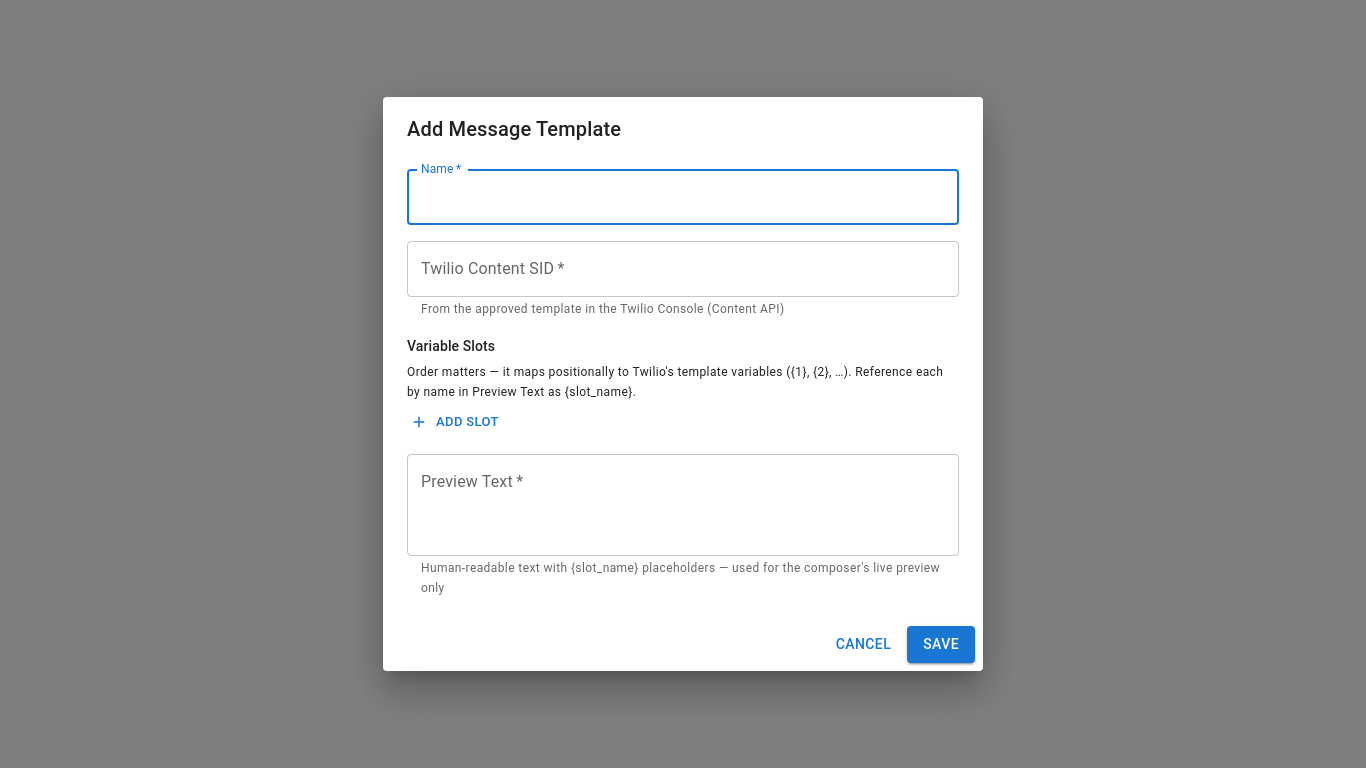
Test: TemplateFormDialog › adds and removes variable slot rows
The width and height of the screenshot is (1366, 768).
Click the button "Add Slot".
click(455, 422)  # box x1=407 y1=407 x2=504 y2=438
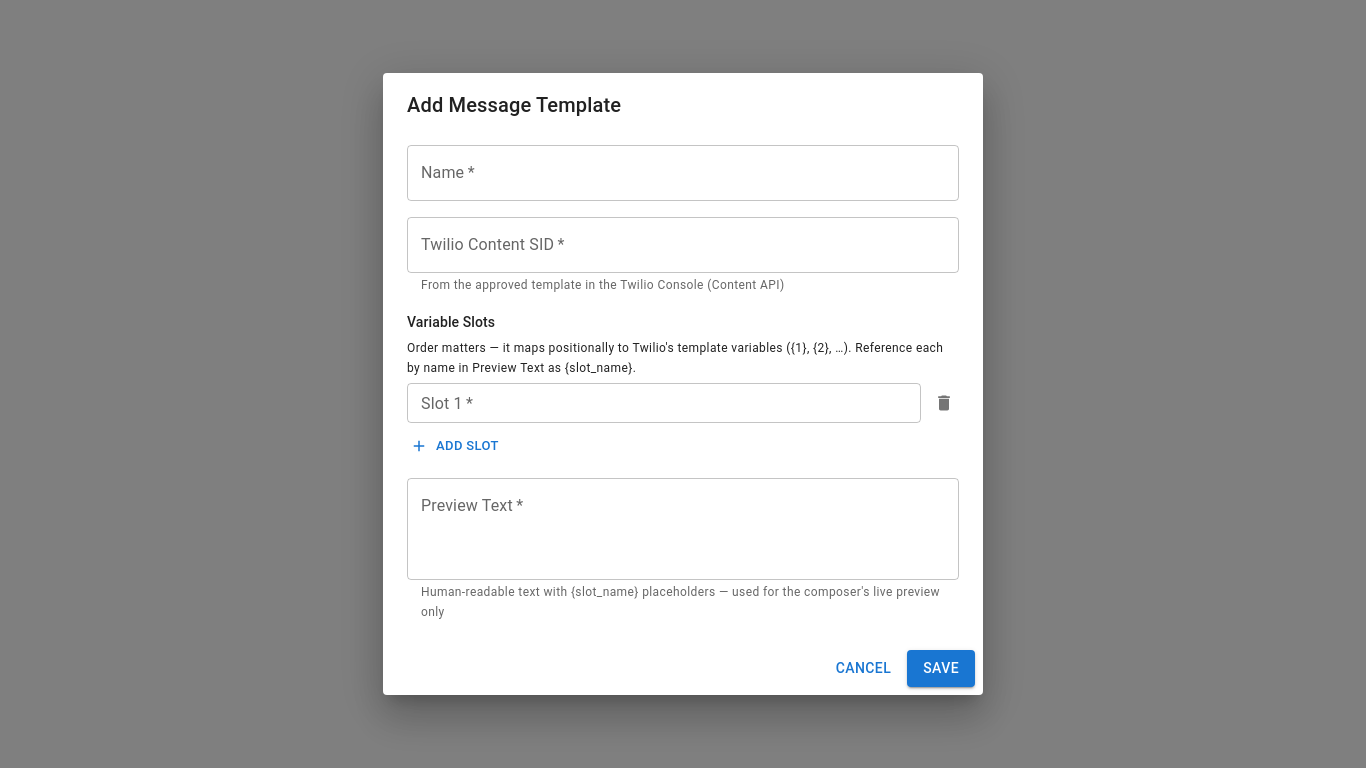
Type "team_name" into the field labelled "Slot 1 *".
click(664, 403); type("team_name")  # box x1=407 y1=383 x2=921 y2=423
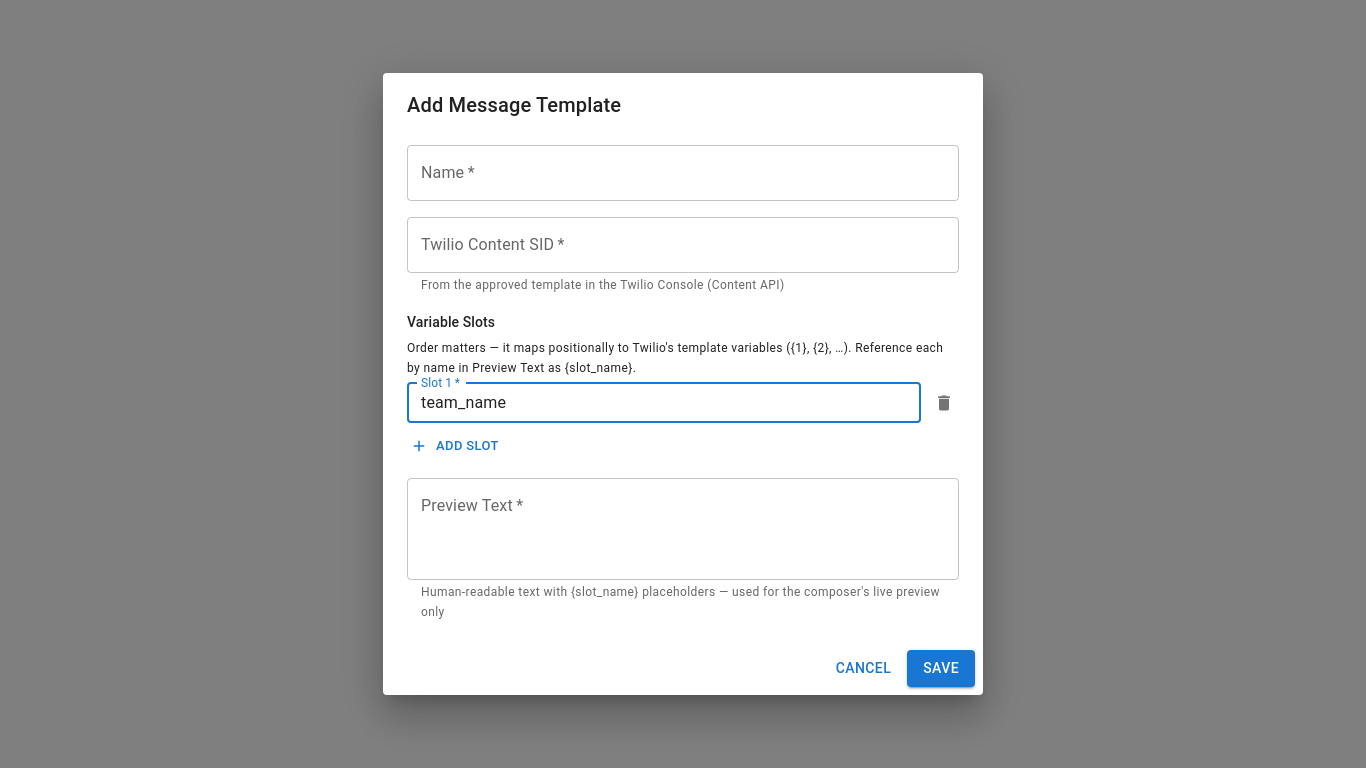
Click the button named "remove slot 1".
click(944, 403)  # box x1=929 y1=388 x2=959 y2=418
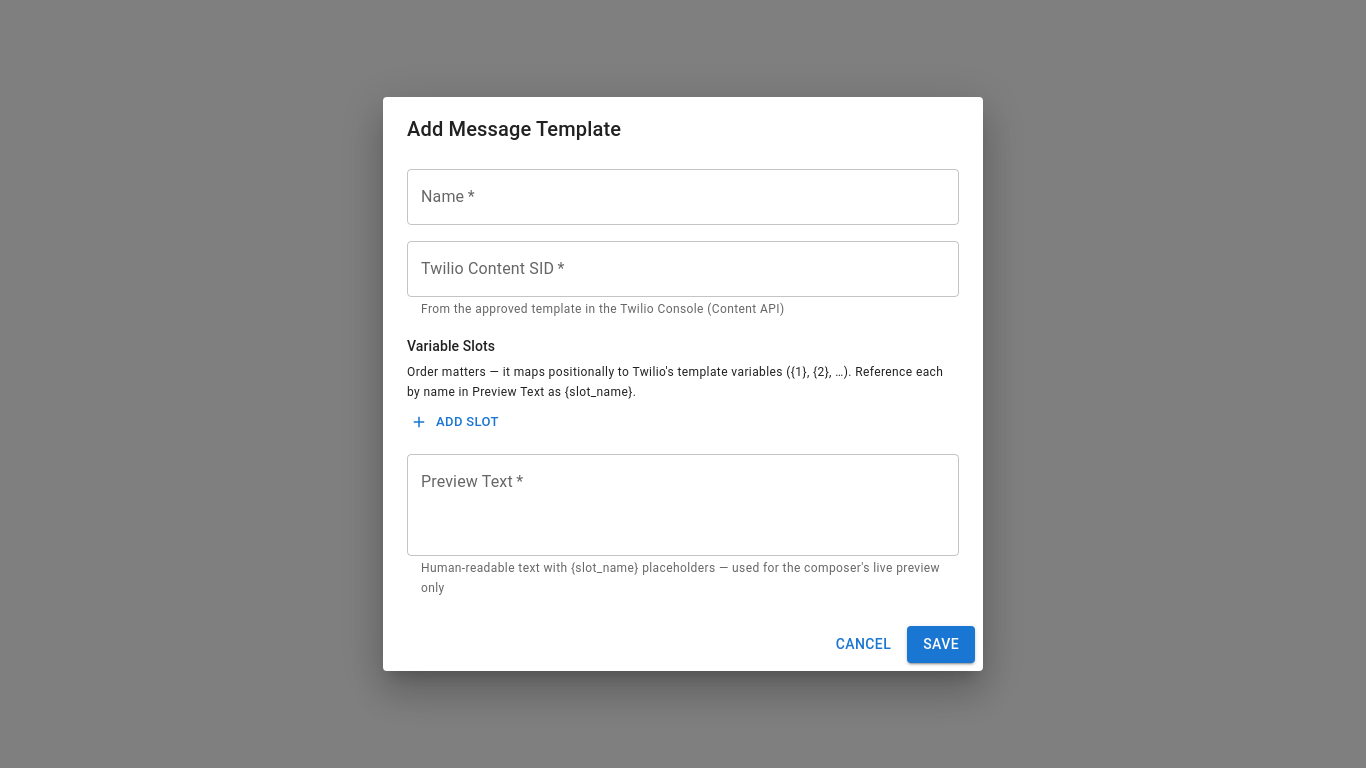
Result: the label labelled "Slot 1" is gone
